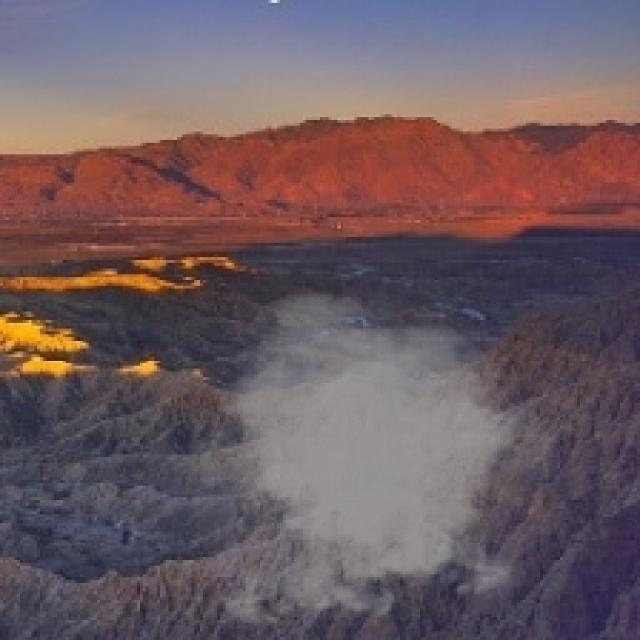Smoke: (160, 286, 574, 638)
